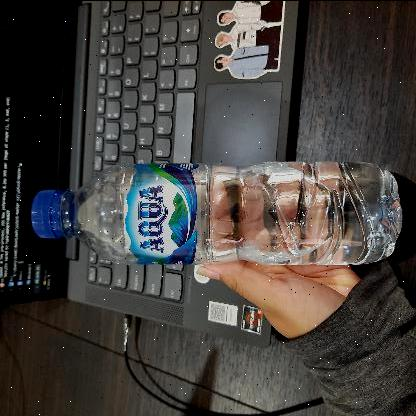Plastic Bottle: (28, 156, 404, 268)
